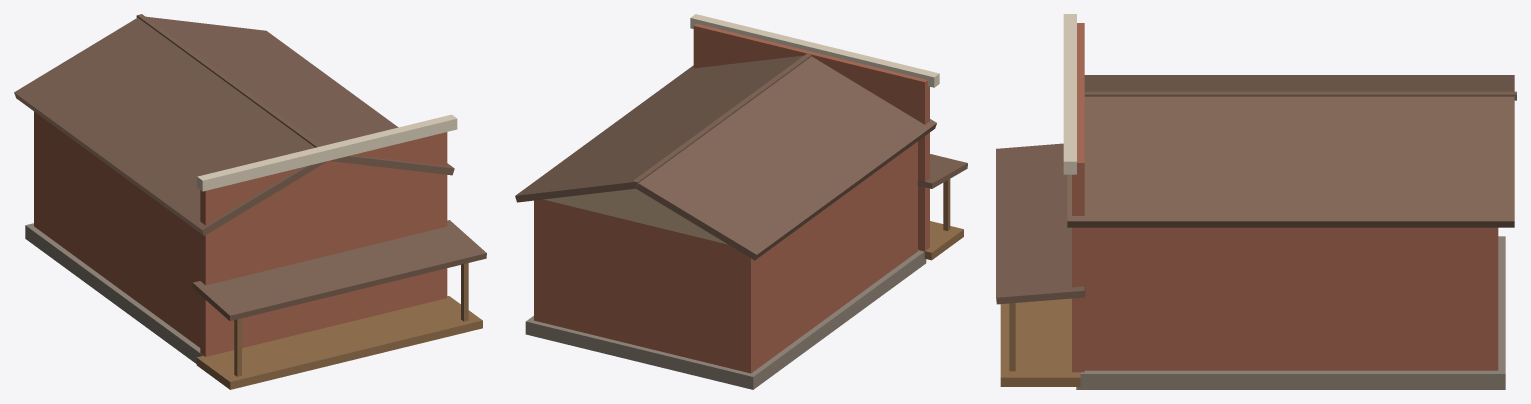
Rendered from arizona-shop-false-front_lod0.glb.
3 renders of one model, left to right at view 1: azimuth 30°, elevation 25°; view 2: azimuth 150°, elevation 25°; view 3: azimuth 270°, elevation 25°, orthographic. The views are drawn at different scales.
Parts seen in each view (by area): view 1: RF_AZ_Shop_FalseFront, RF_AZ_Shop_RoofLeft, RF_AZ_Shop_Walls, RF_AZ_Shop_RoofRight, RF_AZ_Shop_PorchRoof, RF_AZ_Shop_PorchDeck, RF_AZ_Shop_Cornice, RF_AZ_Shop_Foundation, RF_AZ_Shop_Ridge, RF_AZ_Shop_Post.001, RF_AZ_Shop_Post; view 2: RF_AZ_Shop_Walls, RF_AZ_Shop_RoofLeft, RF_AZ_Shop_RoofRight, RF_AZ_Shop_FalseFront, RF_AZ_Shop_Foundation, RF_AZ_Shop_Gable.001, RF_AZ_Shop_Cornice, RF_AZ_Shop_Ridge, RF_AZ_Shop_PorchRoof, RF_AZ_Shop_PorchDeck, RF_AZ_Shop_Post; view 3: RF_AZ_Shop_Walls, RF_AZ_Shop_RoofRight, RF_AZ_Shop_PorchRoof, RF_AZ_Shop_Foundation, RF_AZ_Shop_RoofLeft, RF_AZ_Shop_PorchDeck, RF_AZ_Shop_FalseFront, RF_AZ_Shop_Ridge, RF_AZ_Shop_Cornice, RF_AZ_Shop_Post.001.
Part boxes in pixels (<box>): RF_AZ_Shop_FalseFront: <box>200,132,447,356</box>; RF_AZ_Shop_RoofLeft: <box>14,17,327,235</box>; RF_AZ_Shop_Walls: <box>34,111,200,347</box>; RF_AZ_Shop_RoofRight: <box>146,16,454,175</box>; RF_AZ_Shop_PorchRoof: <box>192,220,486,320</box>; RF_AZ_Shop_PorchDeck: <box>196,296,482,389</box>; RF_AZ_Shop_Cornice: <box>197,114,457,191</box>; RF_AZ_Shop_Foundation: <box>25,223,203,363</box>; RF_AZ_Shop_Ridge: <box>136,14,321,147</box>; RF_AZ_Shop_Post.001: <box>461,263,468,321</box>; RF_AZ_Shop_Post: <box>234,318,241,376</box>; RF_AZ_Shop_Walls: <box>534,141,918,373</box>; RF_AZ_Shop_RoofLeft: <box>635,56,936,260</box>; RF_AZ_Shop_RoofRight: <box>515,55,803,202</box>; RF_AZ_Shop_FalseFront: <box>693,23,929,250</box>; RF_AZ_Shop_Foundation: <box>525,250,926,389</box>; RF_AZ_Shop_Gable.001: <box>543,188,727,244</box>; RF_AZ_Shop_Cornice: <box>690,14,939,87</box>; RF_AZ_Shop_Ridge: <box>632,53,811,186</box>; RF_AZ_Shop_PorchRoof: <box>917,154,967,188</box>; RF_AZ_Shop_PorchDeck: <box>918,221,963,260</box>; RF_AZ_Shop_Post: <box>943,179,950,230</box>; RF_AZ_Shop_Walls: <box>1084,227,1498,370</box>; RF_AZ_Shop_RoofRight: <box>1067,96,1514,227</box>; RF_AZ_Shop_PorchRoof: <box>996,143,1085,304</box>; RF_AZ_Shop_Foundation: <box>1076,236,1505,389</box>; RF_AZ_Shop_RoofLeft: <box>1084,75,1514,91</box>; RF_AZ_Shop_PorchDeck: <box>1000,298,1080,386</box>; RF_AZ_Shop_FalseFront: <box>1072,23,1084,372</box>; RF_AZ_Shop_Ridge: <box>1084,91,1516,100</box>; RF_AZ_Shop_Cornice: <box>1063,14,1076,174</box>; RF_AZ_Shop_Post.001: <box>1009,303,1015,371</box>.
Bounding box in the file's own units: 11.9 × 8.69 × 17.58.
